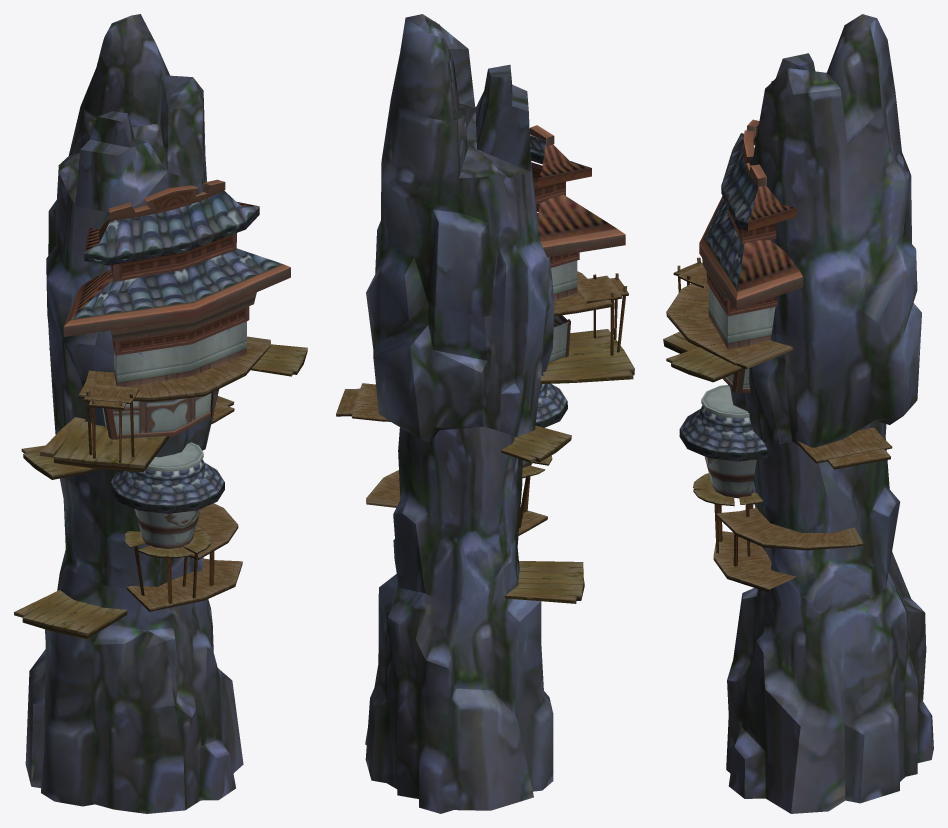
3 renders of one model, left to right at view 1: azimuth 30°, elevation 25°; view 2: azimuth 150°, elevation 25°; view 3: azimuth 270°, elevation 25°, orthographic. The views are drawn at different scales.
Visible parts, largest first — view 1: MB0002_10_01; view 2: MB0002_10_01; view 3: MB0002_10_01.
Boxes of the visible parts, bbox=[...] form: MB0002_10_01: bbox=[14, 14, 307, 813]; MB0002_10_01: bbox=[336, 14, 634, 813]; MB0002_10_01: bbox=[663, 14, 933, 813].
Bounding box in the file's own units: 9.82 × 27.59 × 8.89.
